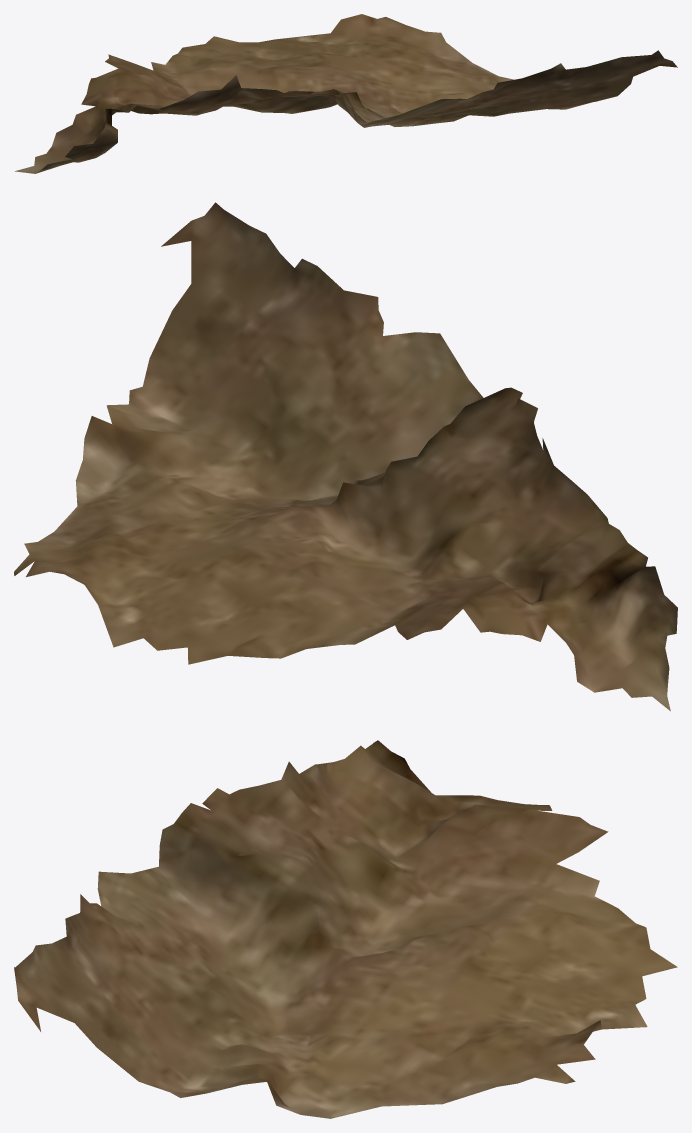
The model's file is pedras_musgo_5.glb.
3 views of the same model, one above another, from view 1: azimuth 30°, elevation 25°; view 2: azimuth 150°, elevation 25°; view 3: azimuth 270°, elevation 25° (orthographic). The views are drawn at different scales.
Parts seen in each view (by area): view 1: pedras_musgo; view 2: pedras_musgo; view 3: pedras_musgo.
Boxes of the visible parts, x1=… form: pedras_musgo: x1=15, y1=14, x2=677, y2=173; pedras_musgo: x1=14, y1=202, x2=677, y2=711; pedras_musgo: x1=14, y1=740, x2=677, y2=1118.
Size of the model in its own units: 1.8 by 0.4105 by 1.41.
Materials: 1 (1 with a texture image).
